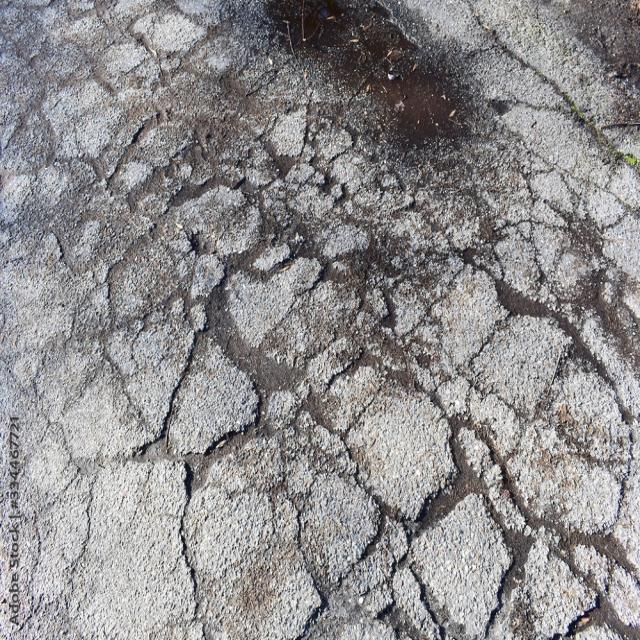Drain Hole: (90, 33, 640, 640)
